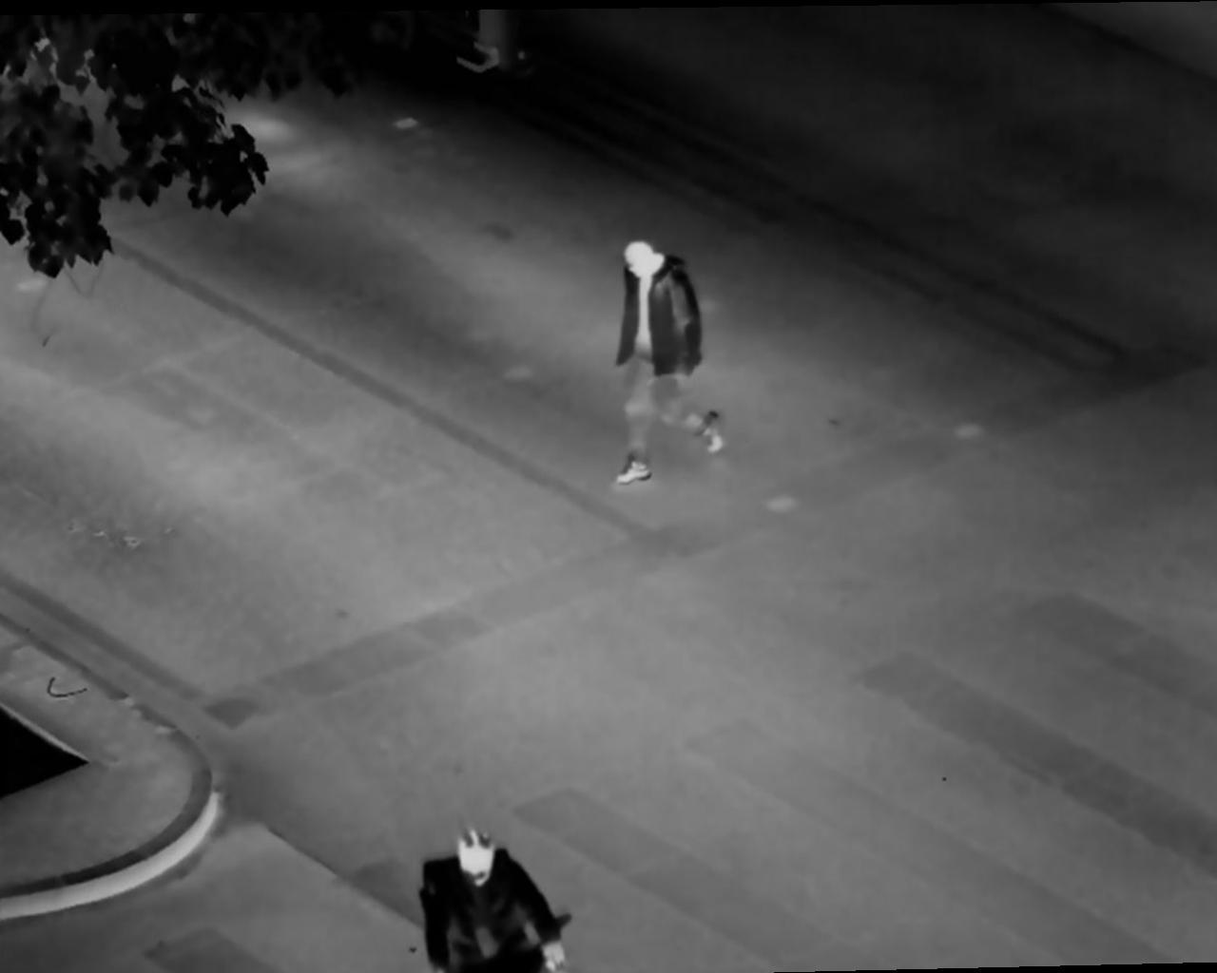person: (614, 236, 729, 487), (438, 826, 575, 973)
